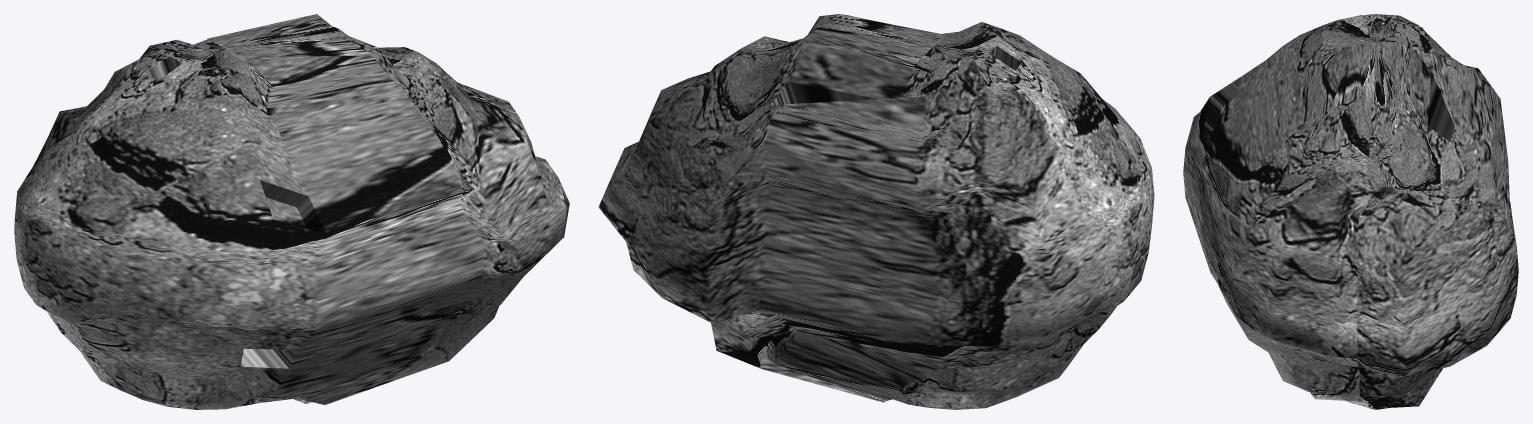
Rendered from psyque.fbx.
The picture shows the model from 3 angles, left to right: view 1: azimuth 30°, elevation 25°; view 2: azimuth 150°, elevation 25°; view 3: azimuth 270°, elevation 25°; orthographic projection. The views are drawn at different scales.
Parts seen in each view (by area): view 1: pSphere1; view 2: pSphere1; view 3: pSphere1.
Boxes of the visible parts, x1,y1,x2,y2 form: pSphere1: (14,14,569,409); pSphere1: (598,14,1154,409); pSphere1: (1183,14,1518,409).
Size of the model in its own units: 17.23 by 11.46 by 11.2.
Materials: 1 (1 with a texture image).
